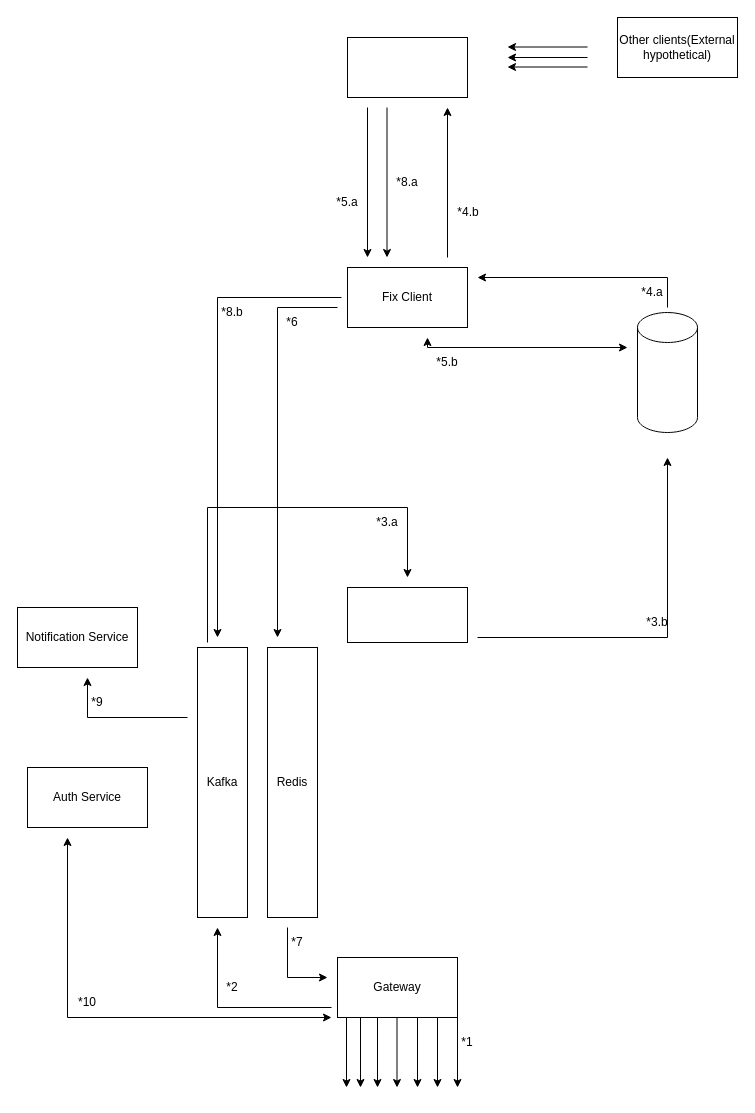
The diagram is 755 pixels wide and 1113 high, and some of its shapes have lost their labels. The shapes that lost their labels are listed below. From the top down, each one's centre as x and y in pixels, then its label:
At (x=407, y=67): "Stock Exchange (External)".
At (x=667, y=372): "Database".
At (x=407, y=614): "Stock Service".
